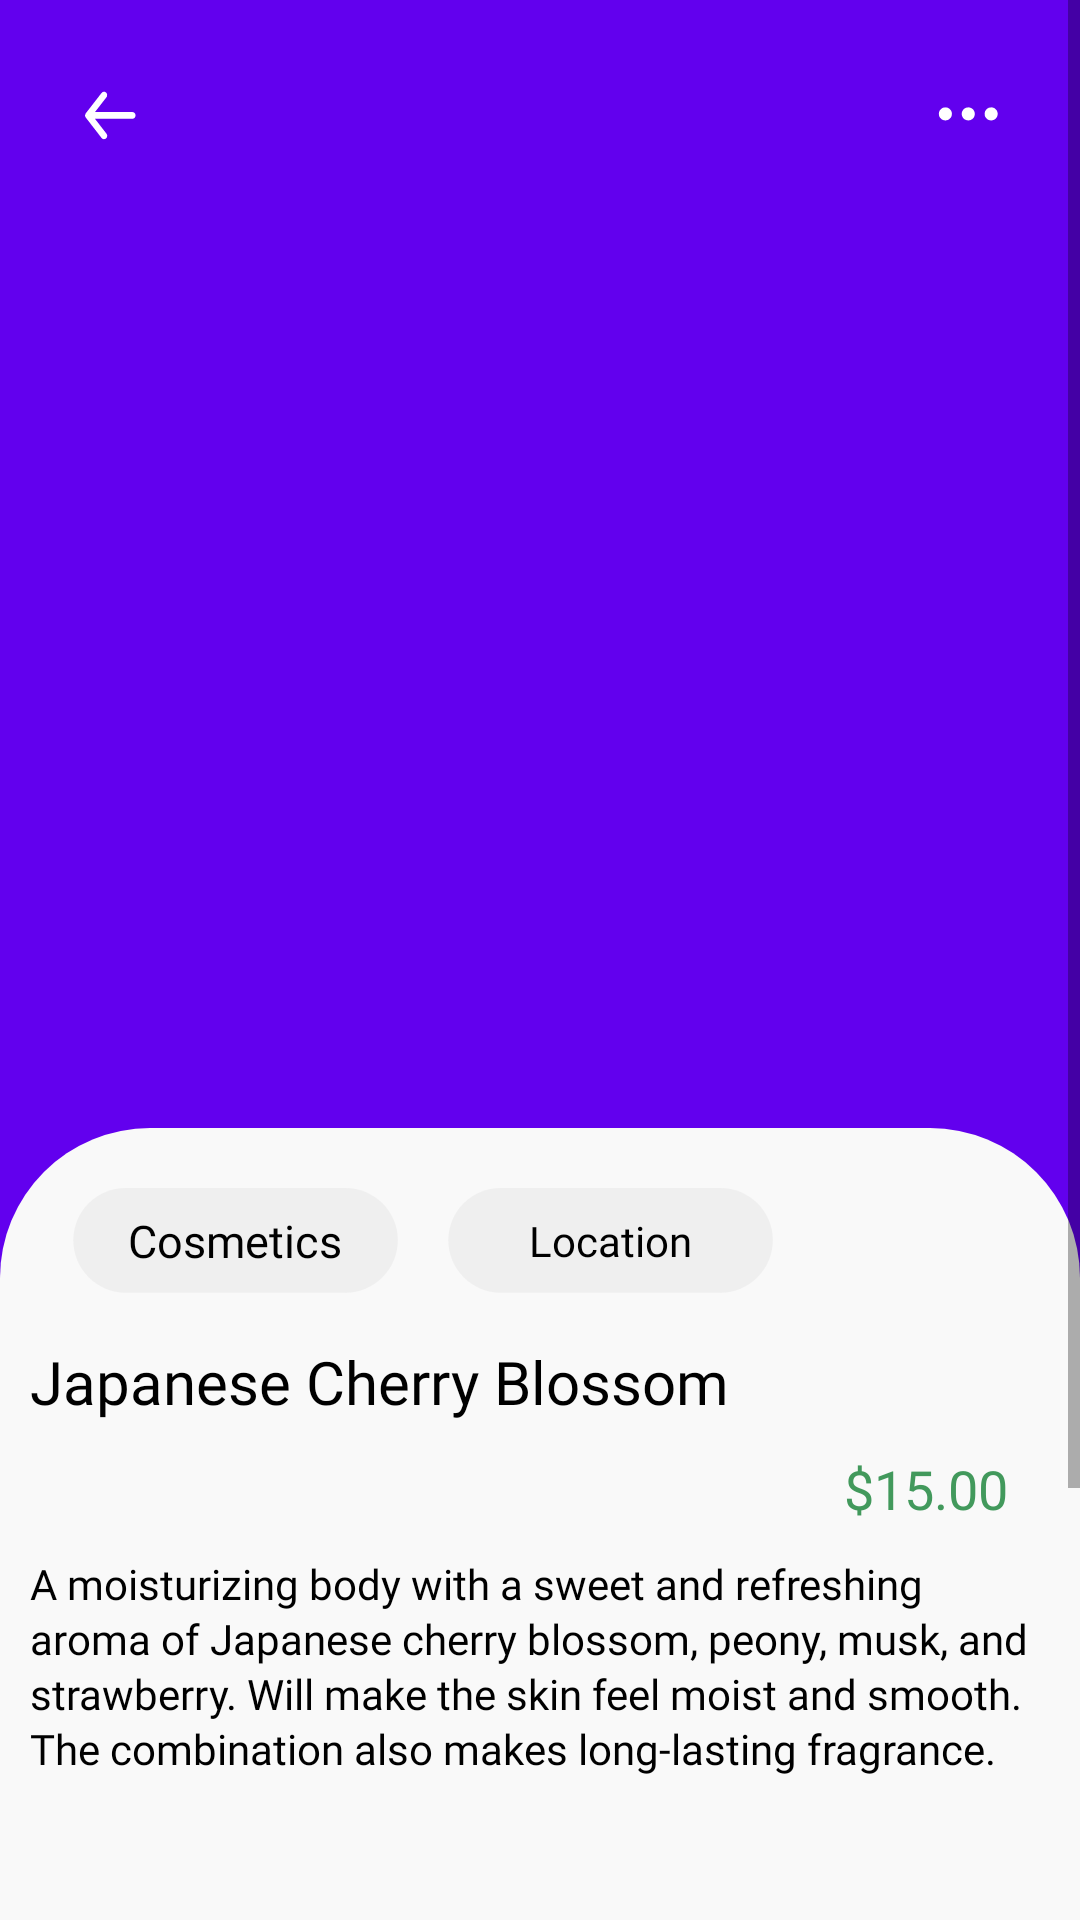

Icons on this 1080px×1920px Android screen, each with its box as (x1, y1, x2, y2):
back: (85, 91, 136, 140)
more: (938, 107, 998, 121)
